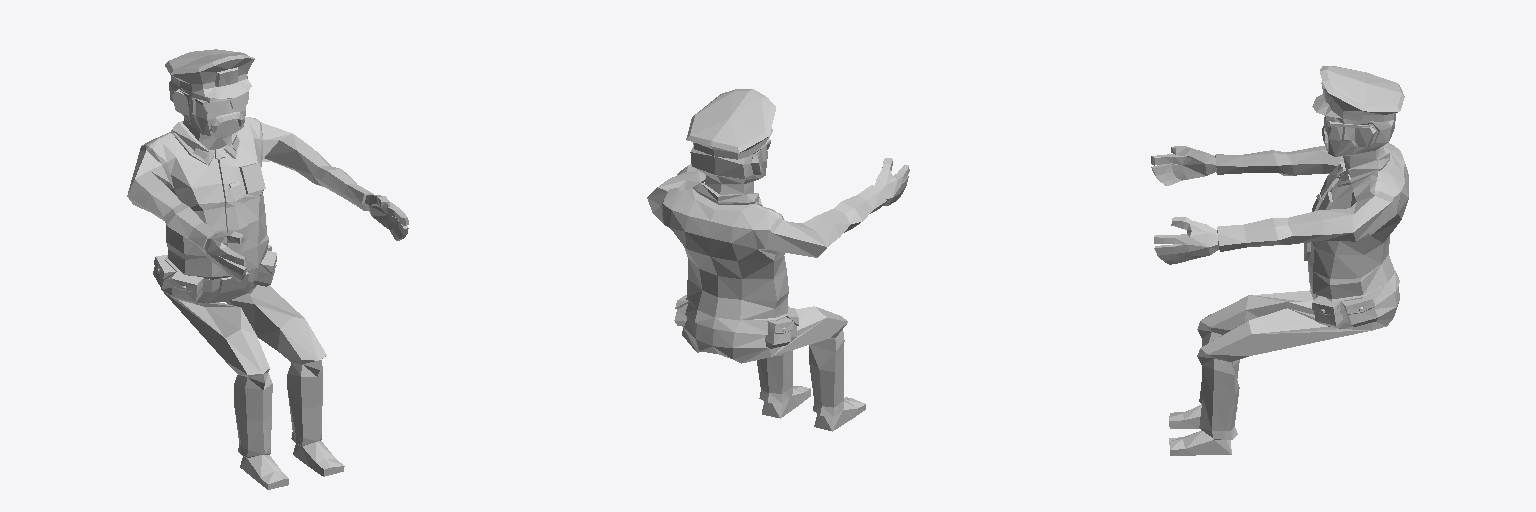
The model's file is male_police_driving_car.obj.
3 renders of one model, left to right at view 1: azimuth 30°, elevation 25°; view 2: azimuth 150°, elevation 25°; view 3: azimuth 270°, elevation 25°, orthographic.
Parts seen in each view (by area): view 1: Character_Male_Police_Mesh.005; view 2: Character_Male_Police_Mesh.005; view 3: Character_Male_Police_Mesh.005.
Boxes of the visible parts, x1=… form: Character_Male_Police_Mesh.005: x1=127, y1=49, x2=408, y2=489; Character_Male_Police_Mesh.005: x1=647, y1=89, x2=909, y2=431; Character_Male_Police_Mesh.005: x1=1151, y1=66, x2=1408, y2=455.
Bounding box in the file's own units: 0.6675 × 1.24 × 0.7937.